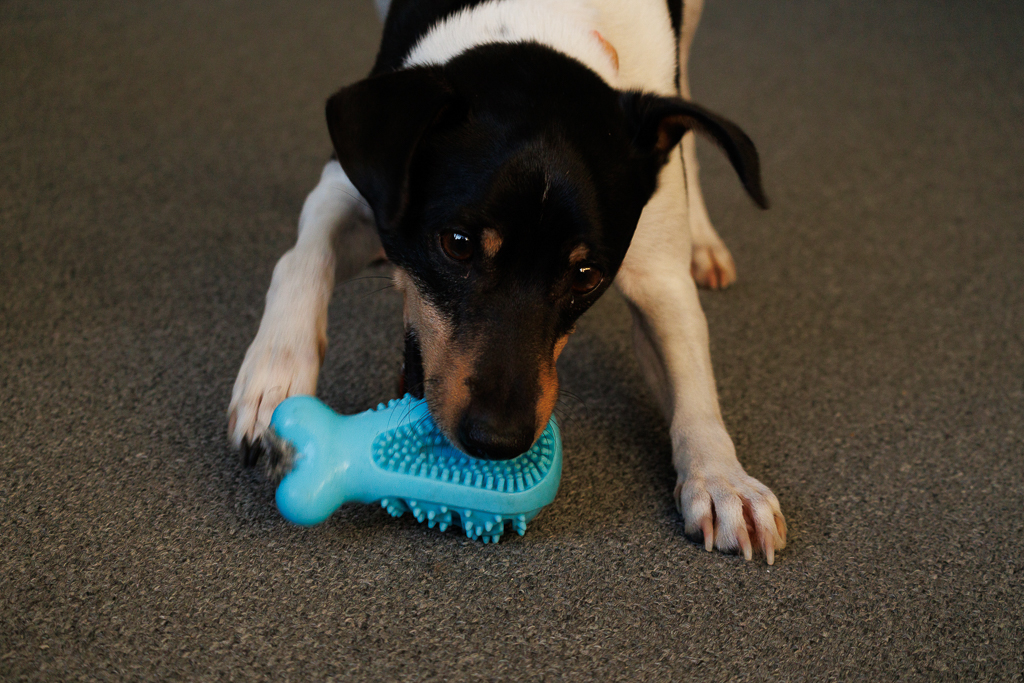Dog: (214, 0, 794, 573)
